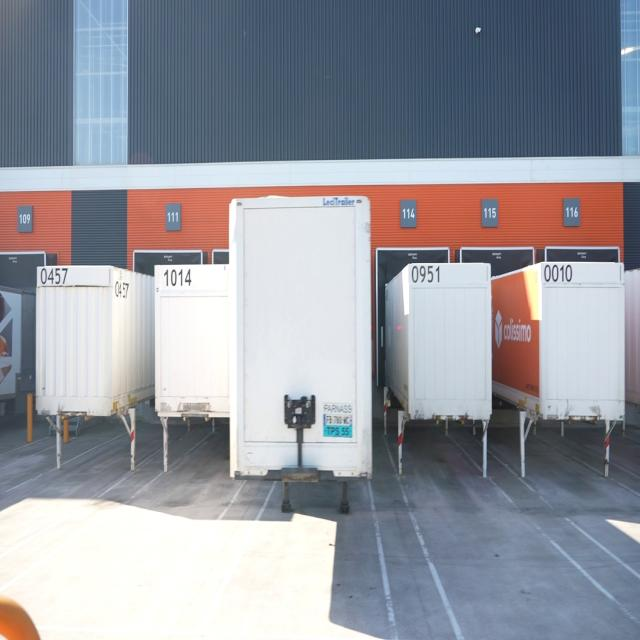Code: (408, 259, 442, 287), (37, 262, 70, 289), (160, 263, 193, 289), (542, 263, 575, 286)
